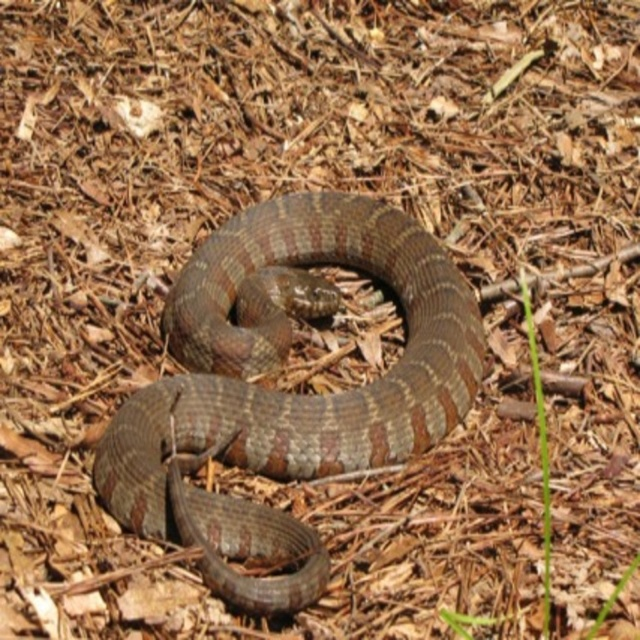Snake: (93, 188, 486, 616)
